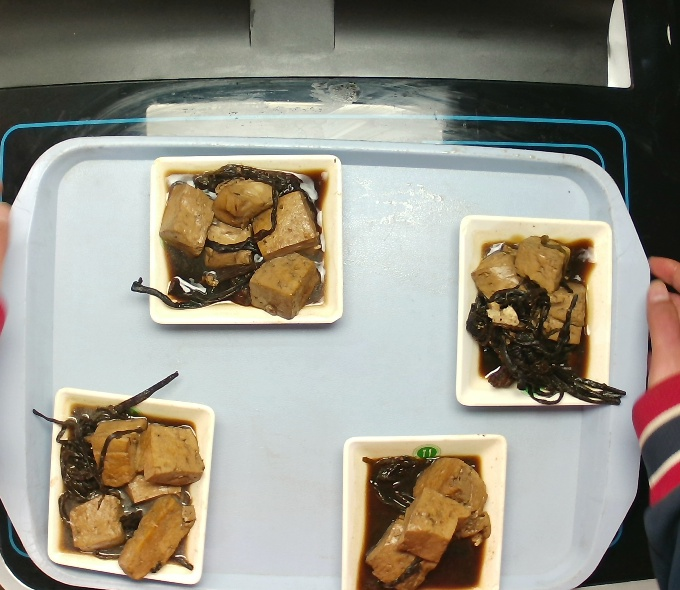wcq-CaiLuDouFu: (146, 159, 335, 314), (49, 399, 200, 569), (466, 221, 603, 405), (348, 434, 499, 589)
